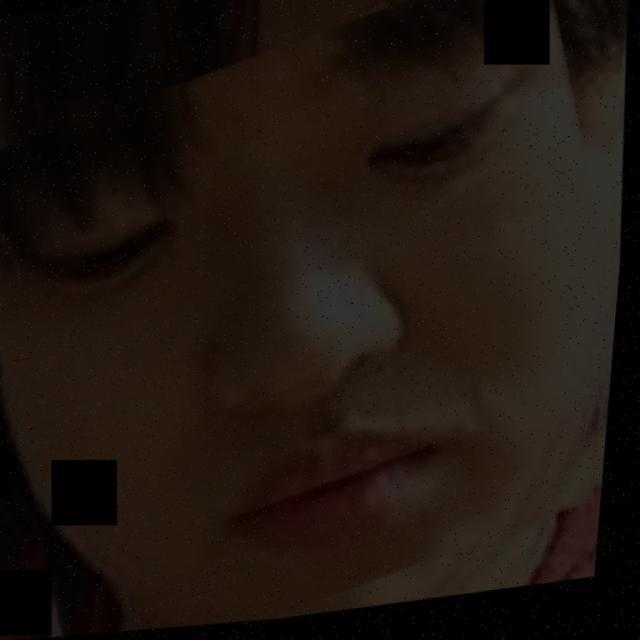sad: (20, 27, 626, 582)
